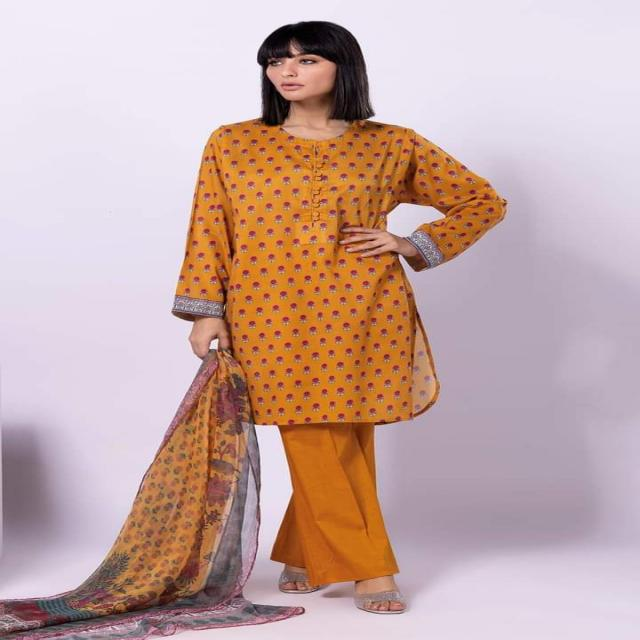female-dress: (186, 114, 502, 606)
